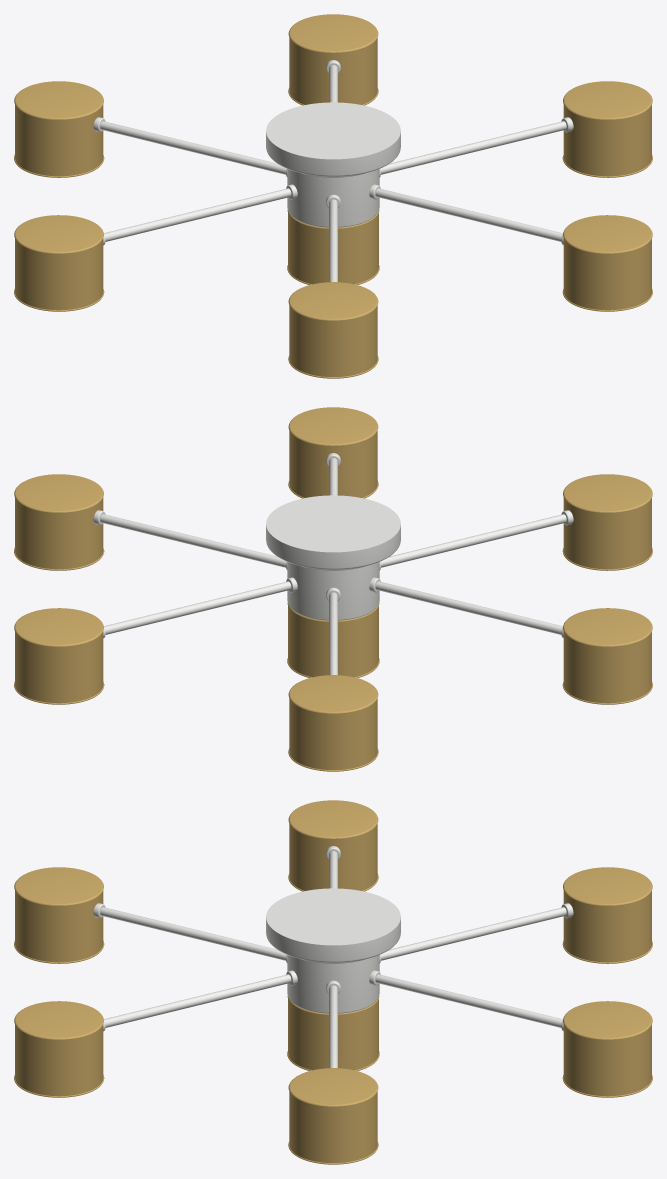
3 renders of one model, top to bottom at view 1: azimuth 30°, elevation 25°; view 2: azimuth 150°, elevation 25°; view 3: azimuth 270°, elevation 25°, orthographic.
Parts seen in each view (by area): view 1: gold, frame; view 2: gold, frame; view 3: gold, frame.
Boxes of the visible parts, box(x1,y1,x2,y2) form: gold: box(14, 14, 652, 378); frame: box(93, 60, 573, 282); gold: box(14, 407, 652, 771); frame: box(93, 453, 573, 675); gold: box(14, 800, 652, 1164); frame: box(93, 846, 573, 1068).
Size of the model in its own units: 0.6444 by 0.1353 by 0.5688.
